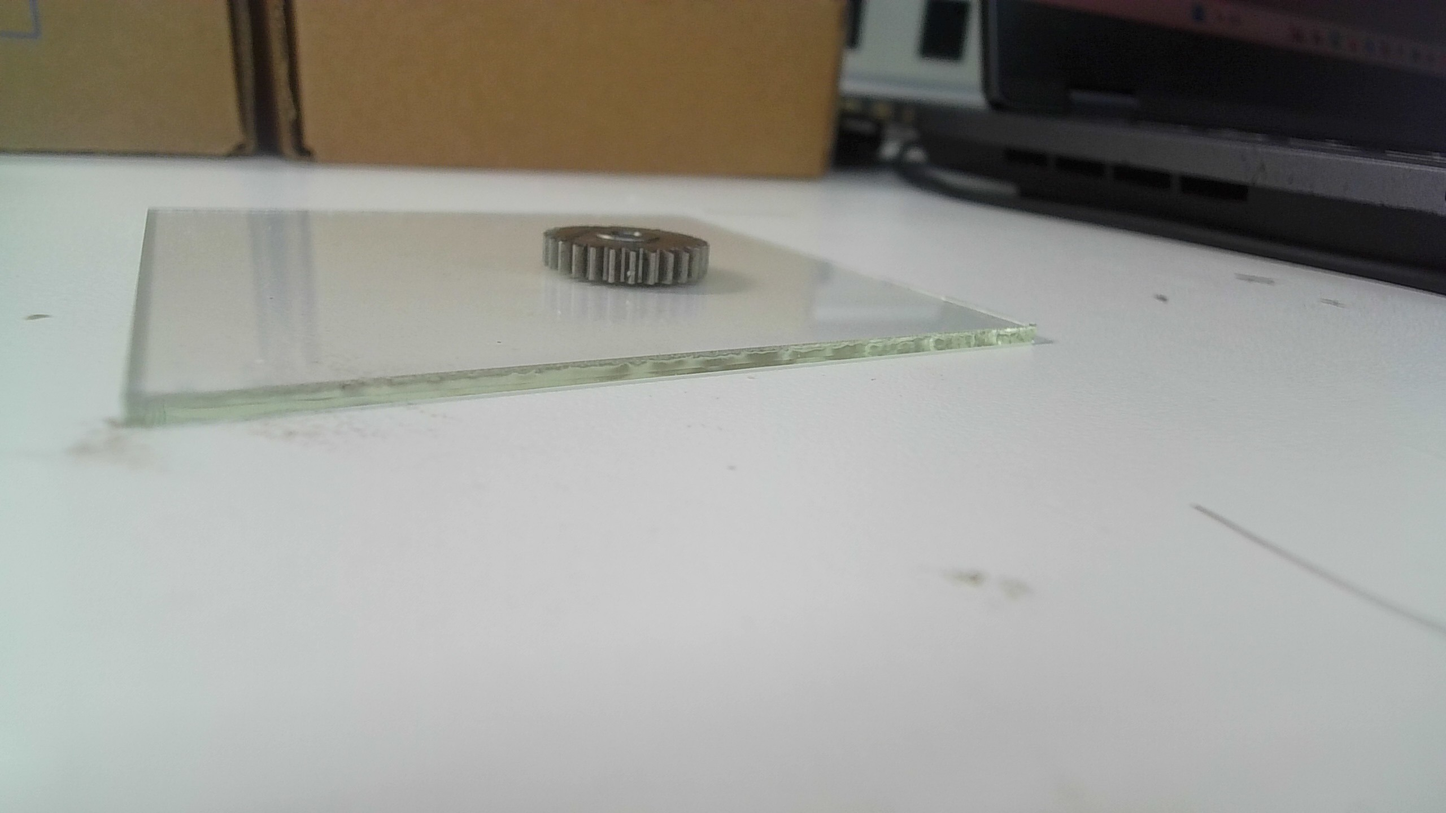gear: (538, 220, 713, 294)
